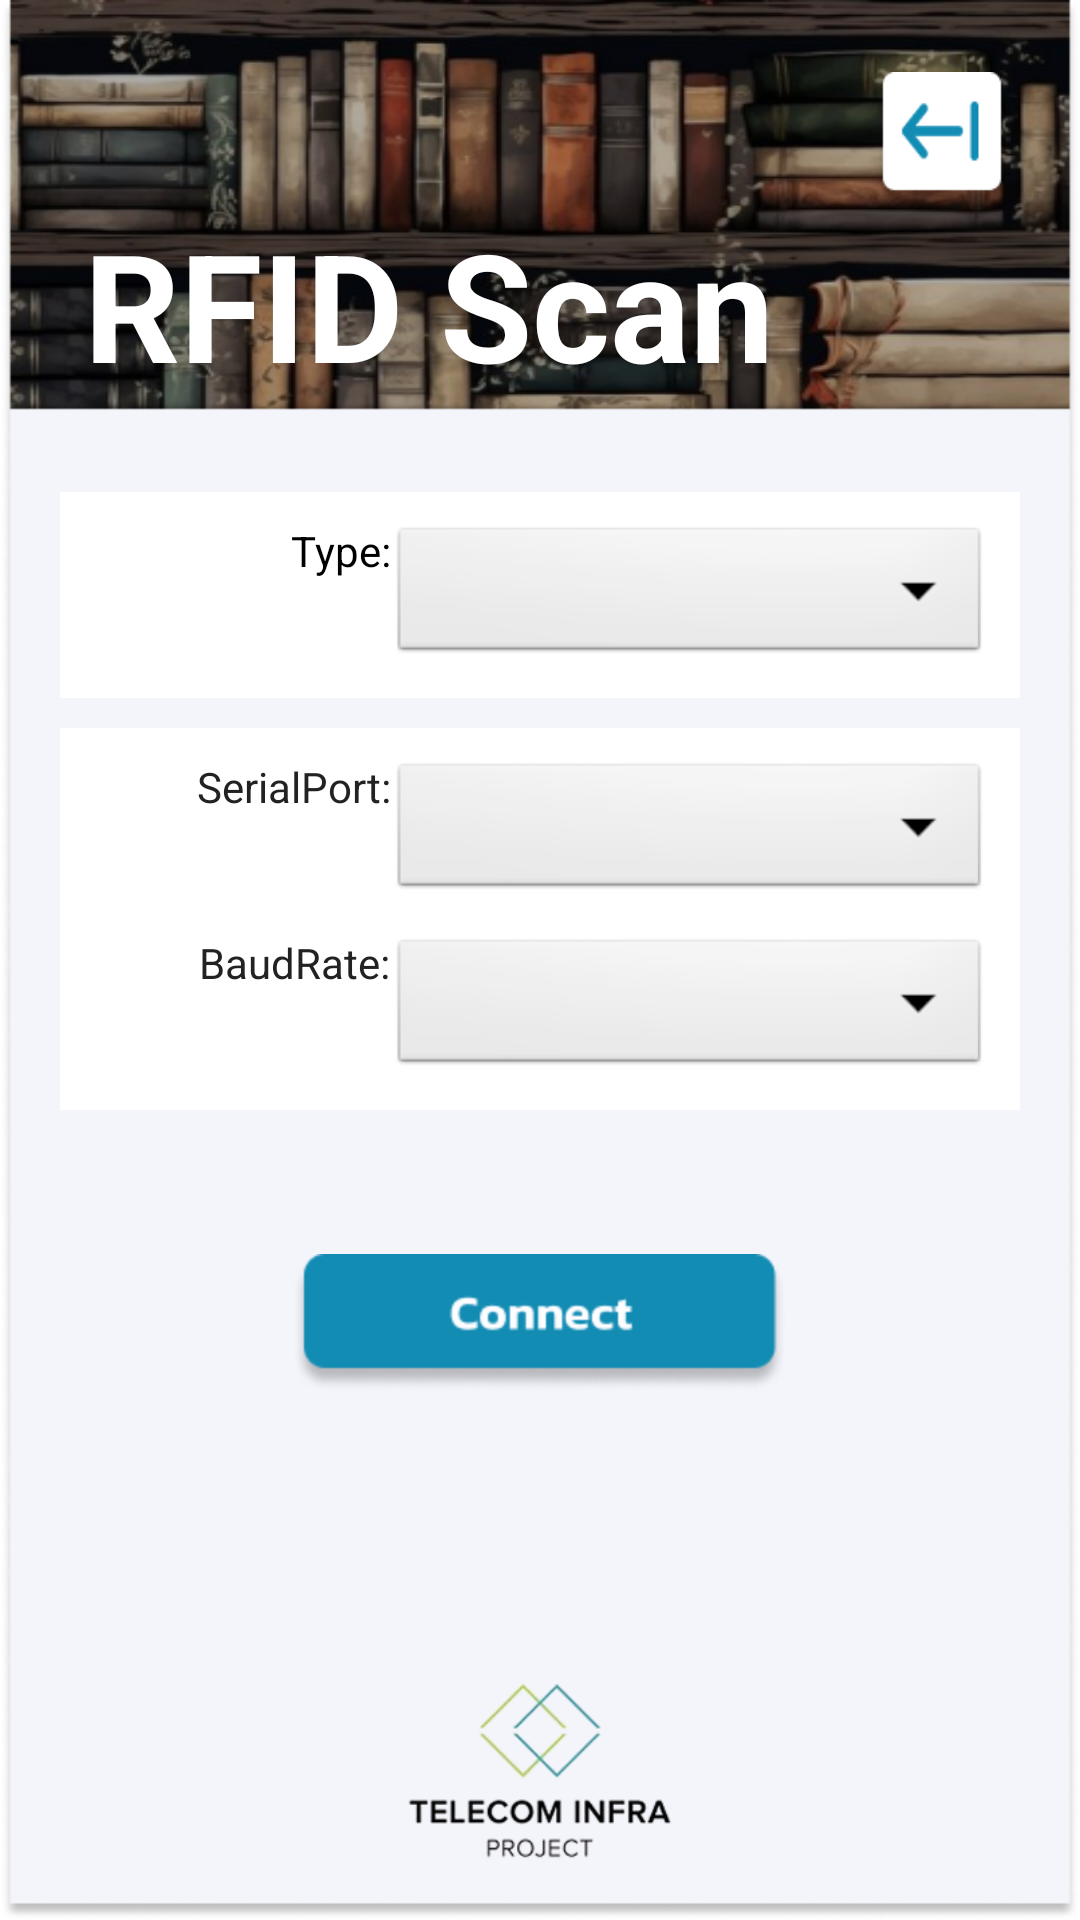

Screen size 1080px×1920px. Icon name, then its center in pixels as (x=x, y=y):
Back Button: (x=942, y=138)
